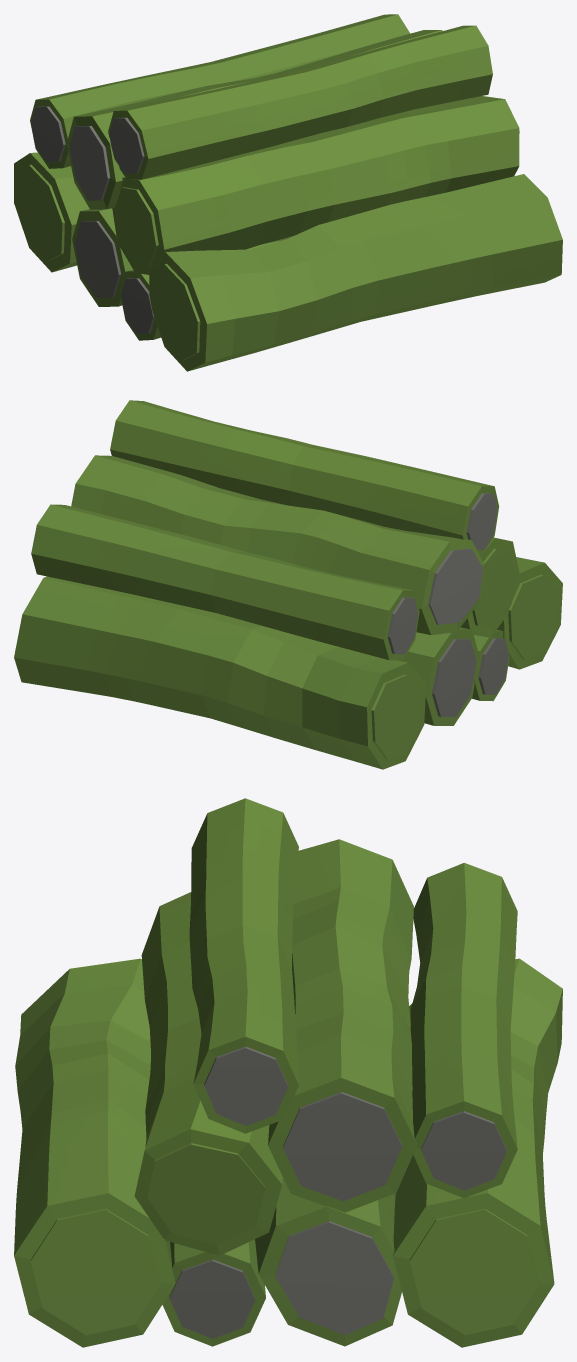
File: Logs_01.fbx
3 views of the same model, one above another, from view 1: azimuth 30°, elevation 25°; view 2: azimuth 150°, elevation 25°; view 3: azimuth 270°, elevation 25° (orthographic). The views are drawn at different scales.
Visible parts, largest first — view 1: Logs_01; view 2: Logs_01; view 3: Logs_01.
Part boxes in pixels (x1,y1,x2,y2): Logs_01: (14, 14, 562, 371); Logs_01: (14, 400, 562, 769); Logs_01: (14, 798, 562, 1347).
Bounding box in the file's own units: 1.27 × 0.717 × 1.15.
